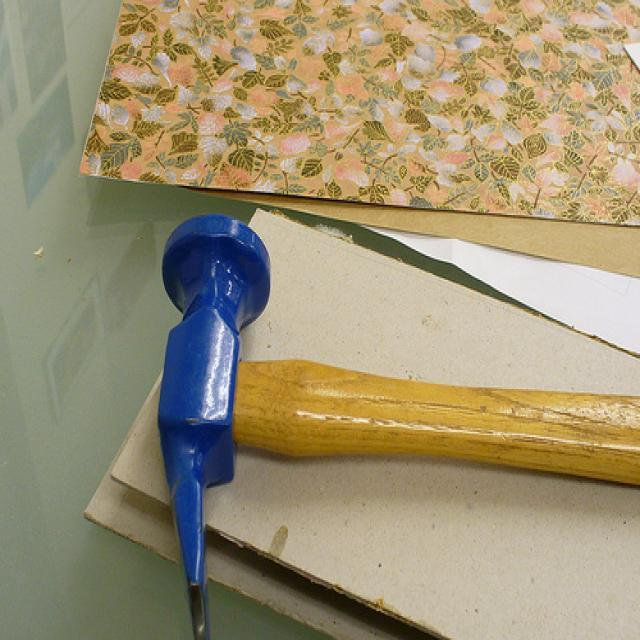hammer: (125, 205, 640, 640)
